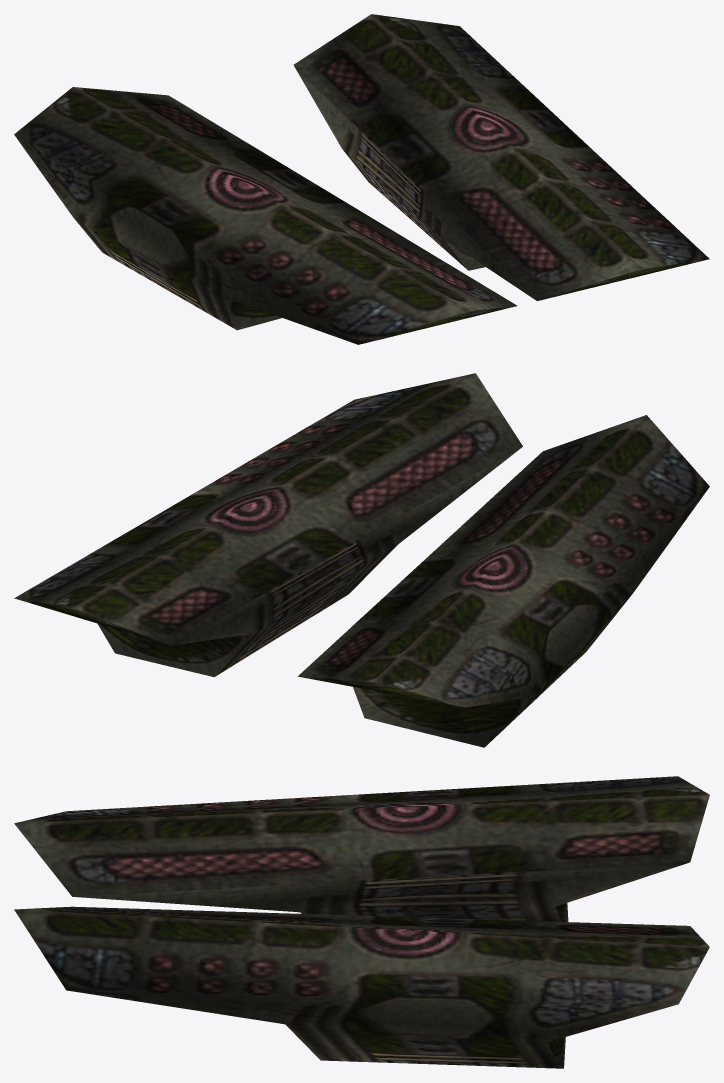
File: ArmPads5__MOB.glb
3 renders of one model, top to bottom at view 1: azimuth 30°, elevation 25°; view 2: azimuth 150°, elevation 25°; view 3: azimuth 270°, elevation 25°, orthographic. The views are drawn at different scales.
Visible parts, largest first — view 1: ArmPads5; view 2: ArmPads5; view 3: ArmPads5.
Part boxes in pixels (x1,y1,x2,y2): ArmPads5: [14, 14, 709, 344]; ArmPads5: [14, 373, 709, 747]; ArmPads5: [14, 776, 709, 1068].
Bounding box in the file's own units: 15.84 × 3.67 × 20.13.
Materials: 1 (1 with a texture image).
